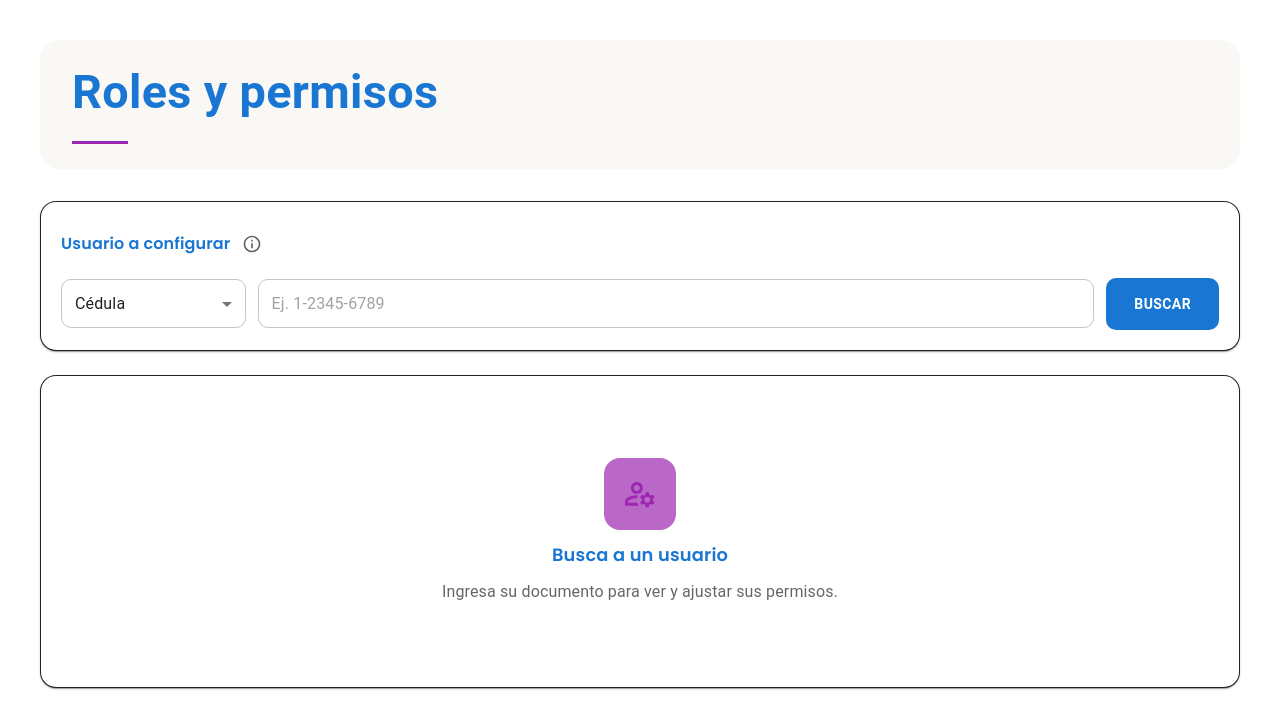
Test: RoleAccessManagement (HU-009 permisos por usuario) › aplica solo los cambios hechos y envía el conjunto deseado de permisos
Type "123456789" into the field named "Número de documento" at (676, 304), box [258, 280, 1094, 328]
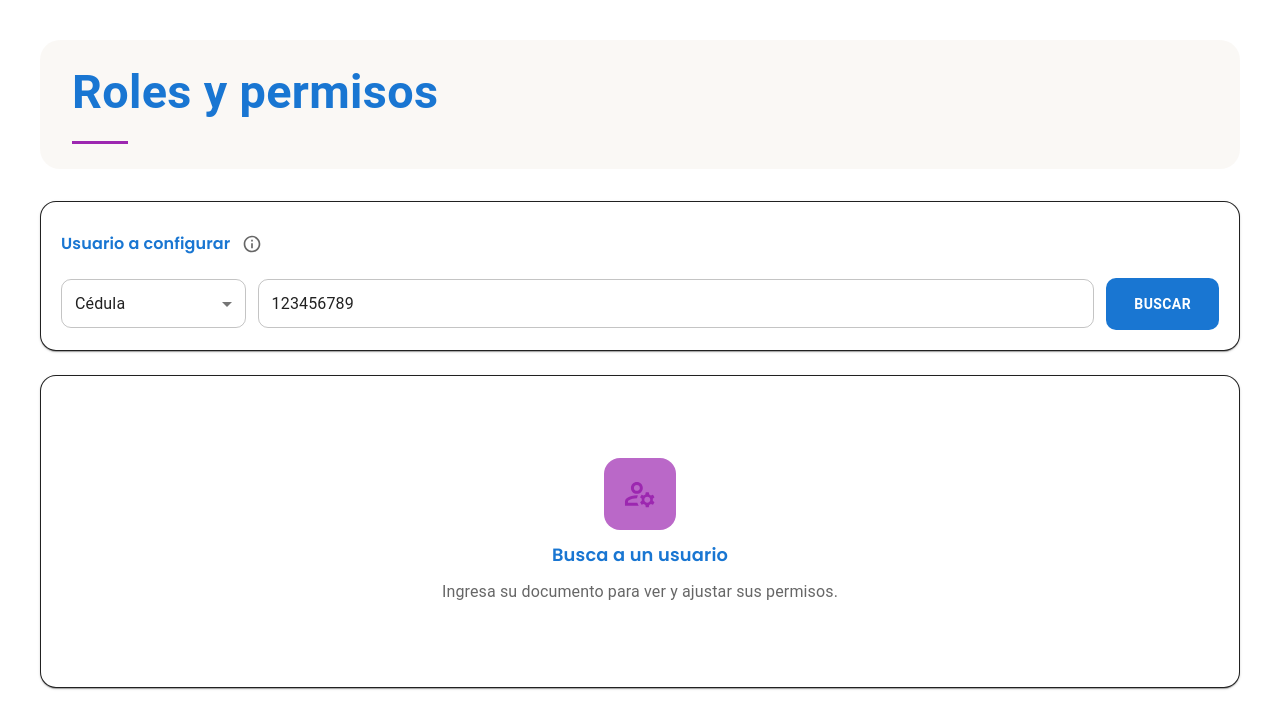
Click the button "Buscar" at (1163, 304), box [1106, 278, 1219, 330]
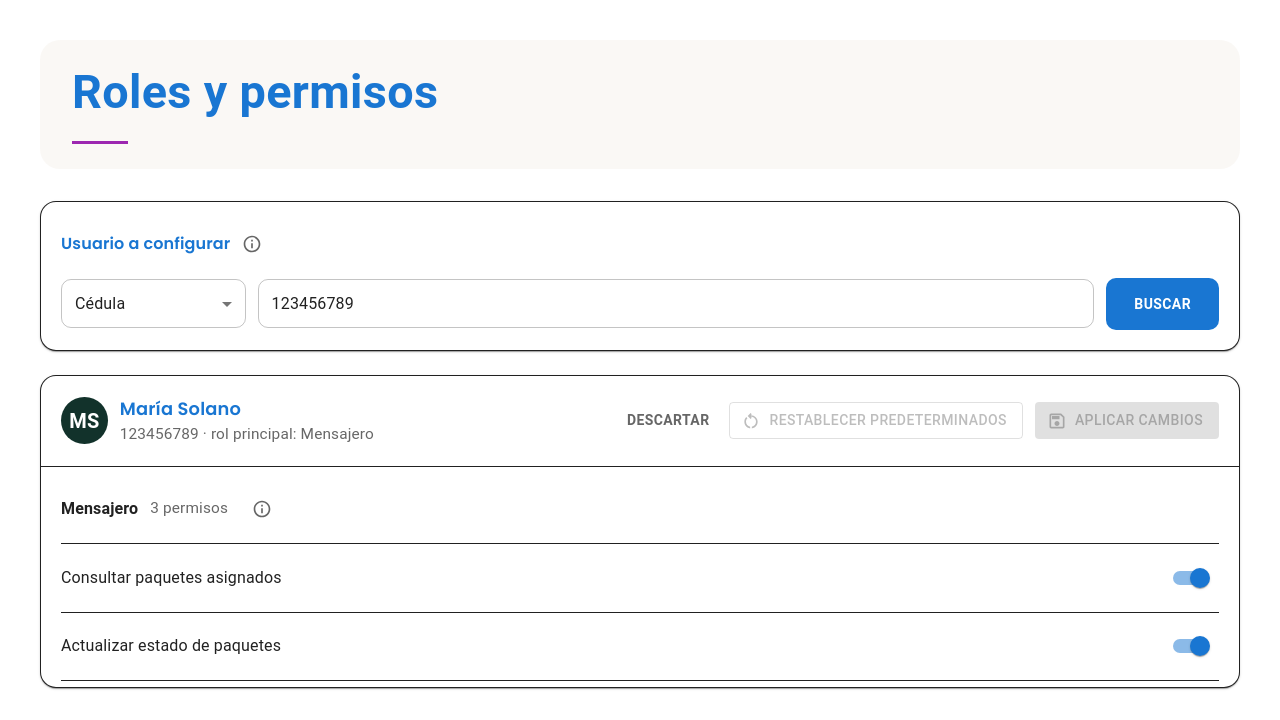
Expected: the heading "María Solano" is shown, [120, 396, 241, 421]
Expected: the button "Aplicar cambios" is disabled, [1035, 402, 1219, 439]
Click the switch named "Actualizar estado de paquetes" at (1200, 646), box [1190, 636, 1210, 656]
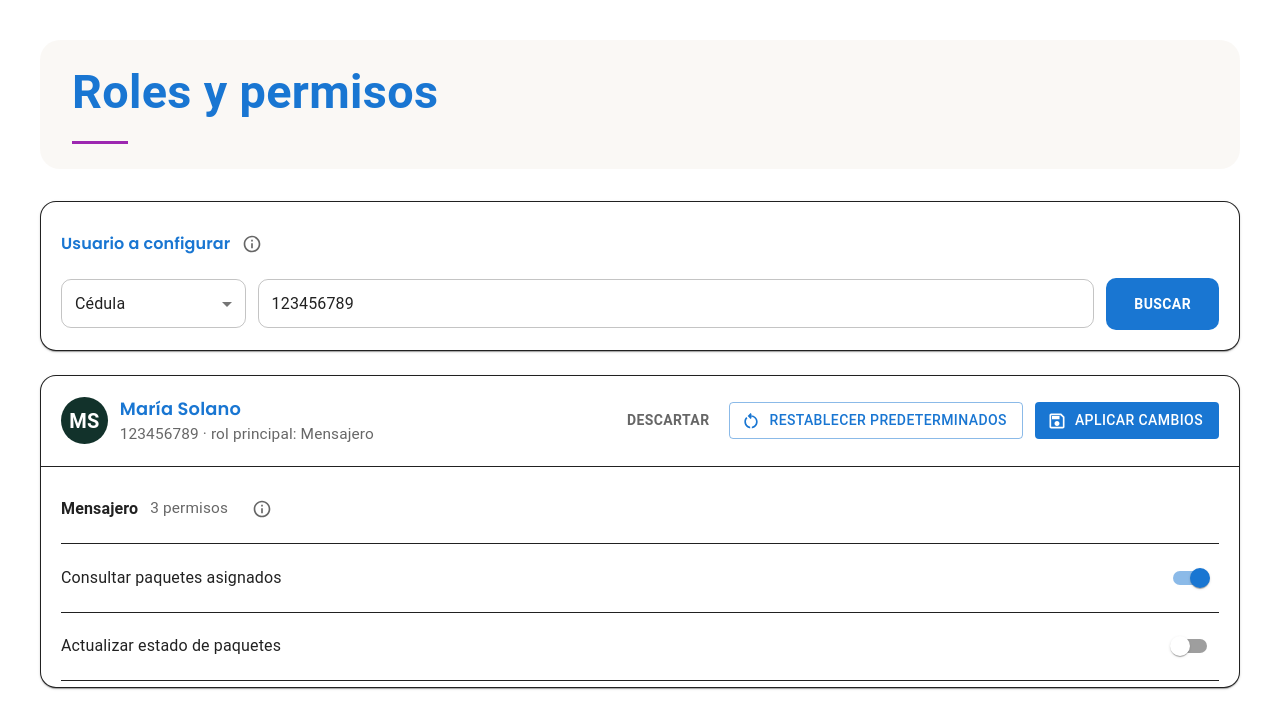
Click the button "Aplicar cambios" at (1127, 421), box [1035, 402, 1219, 439]
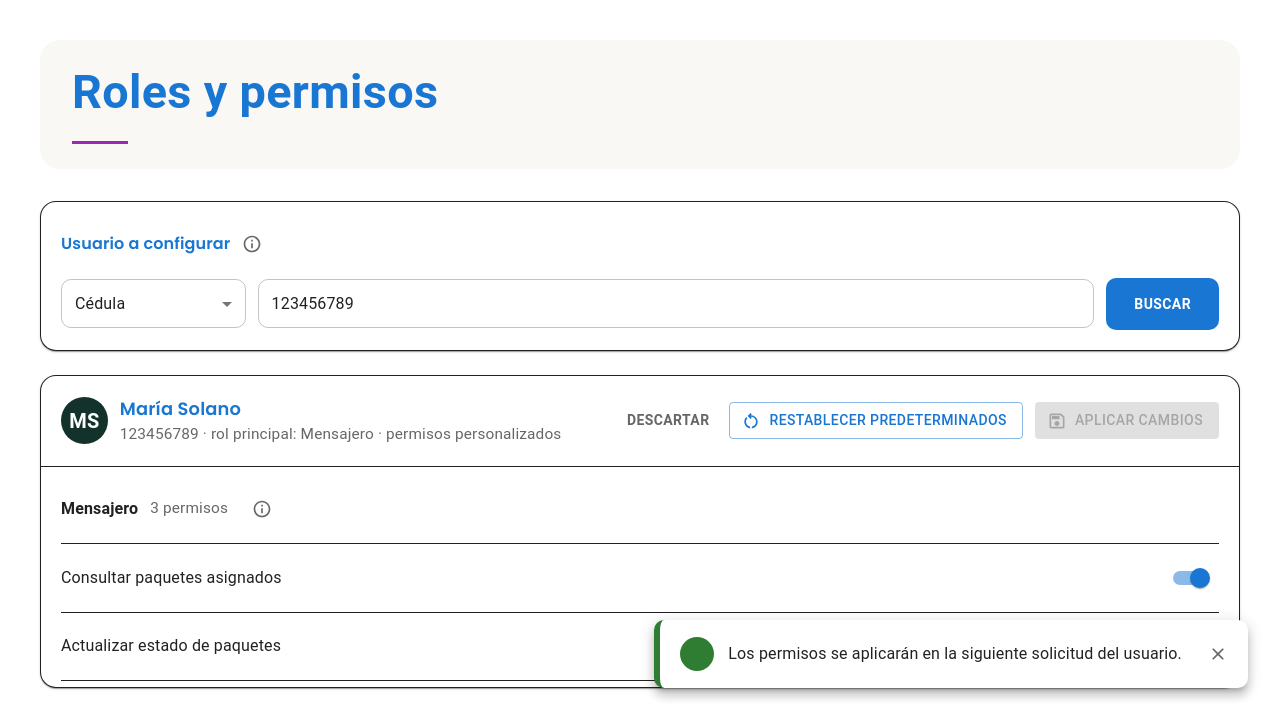
Expected: the text "permisos personalizados" is shown, [374, 424, 561, 442]
